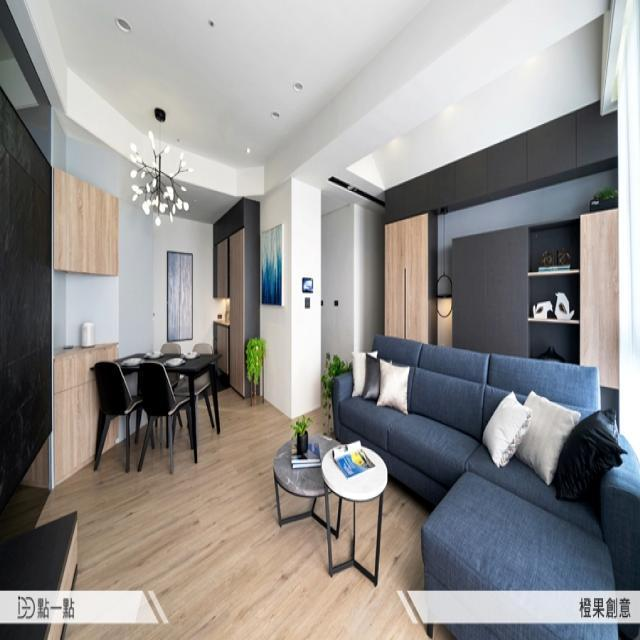table: (82, 329, 236, 475)
